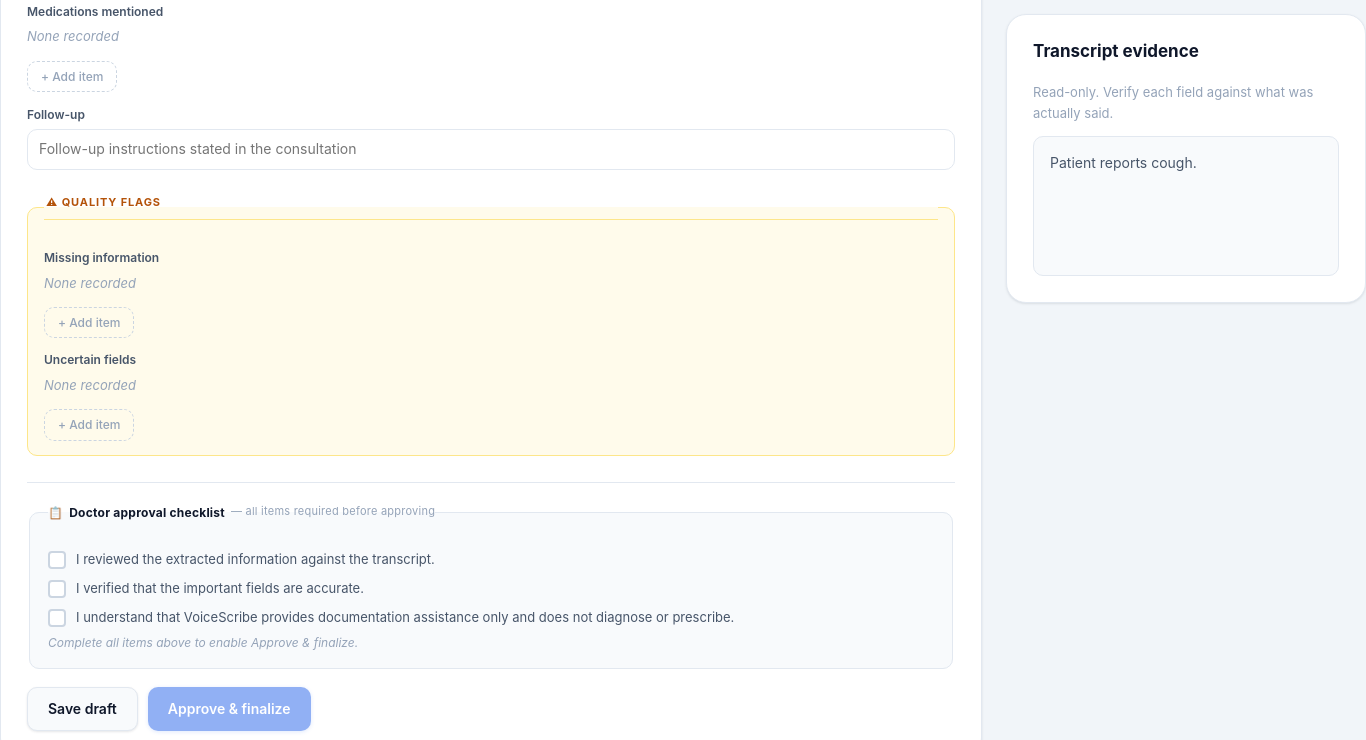
Test: 4. missing patientId prevents save › approve shows validation error when patientId is null
This screenshot has width=1366, height=740.
(page scrolled)
Click the checkbox labelled "I reviewed the extracted information against the transcript.": (241,559) [48,550,435,569]
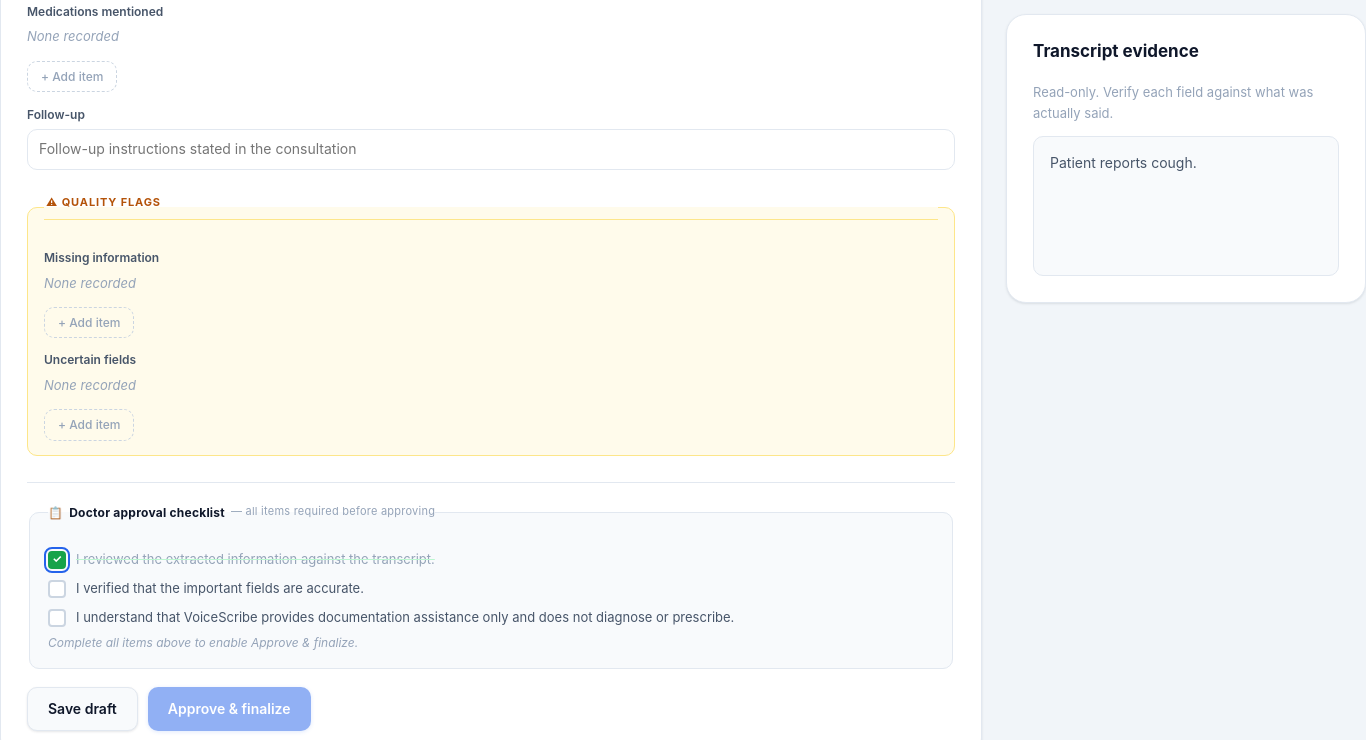
Click the checkbox labelled "I verified that the important fields are accurate.": (206,588) [48,579,364,598]
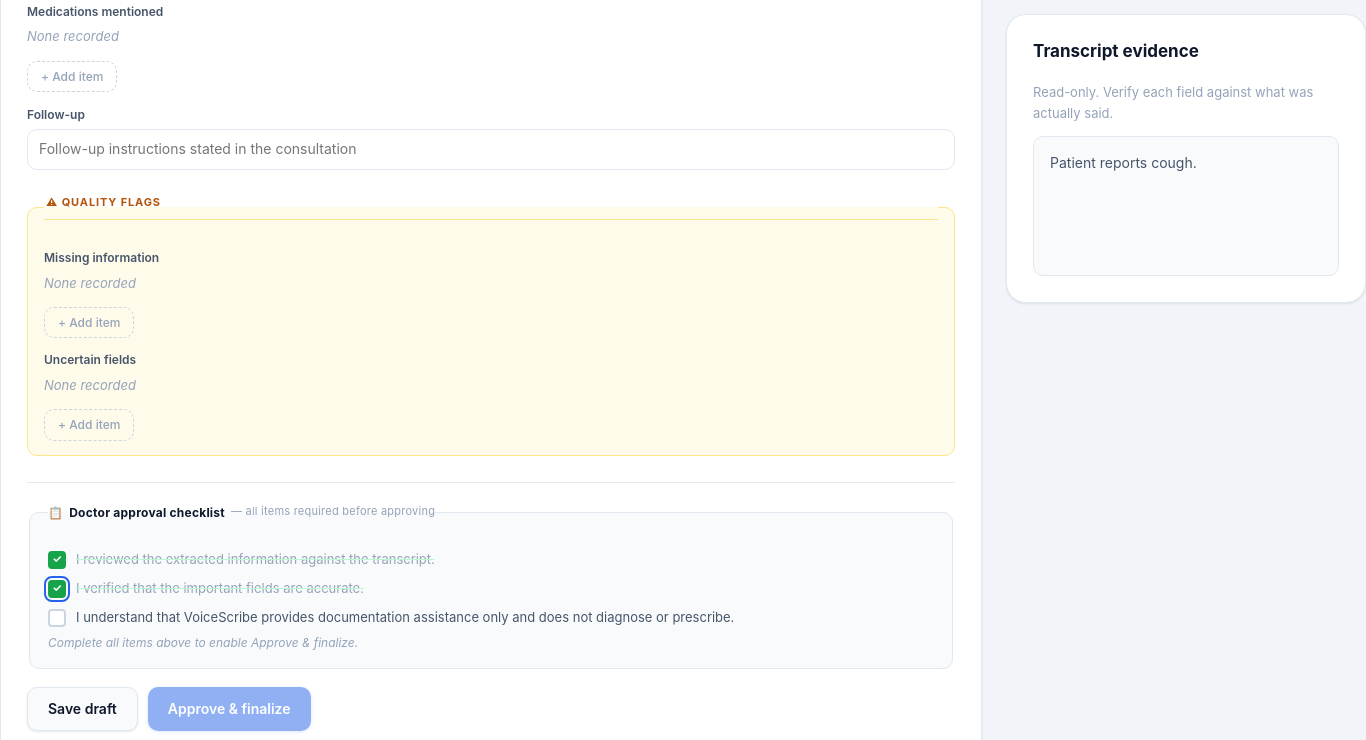
Click the checkbox named "I understand that VoiceScribe provides documentation assista": (391,617) [48,608,734,627]
(page scrolled)
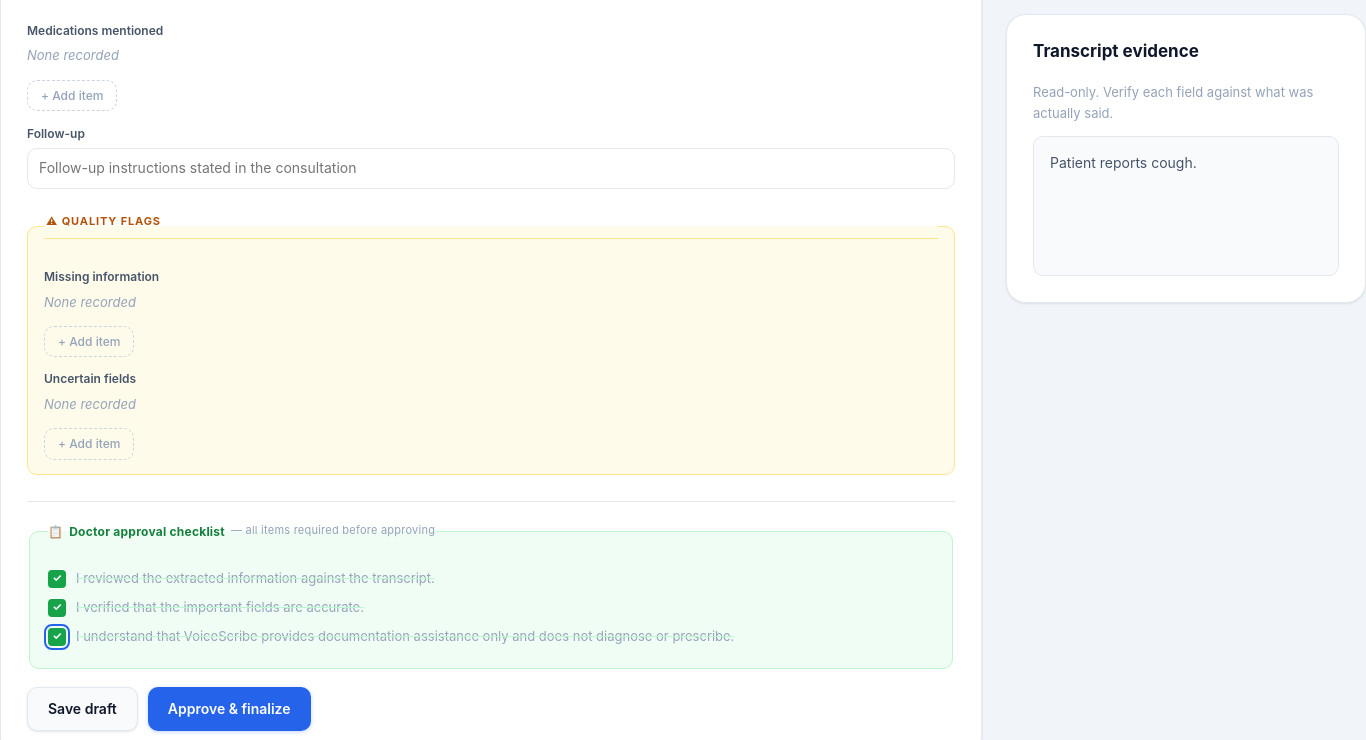
Click the button "Approve & finalize": (229,709) [148,687,311,731]
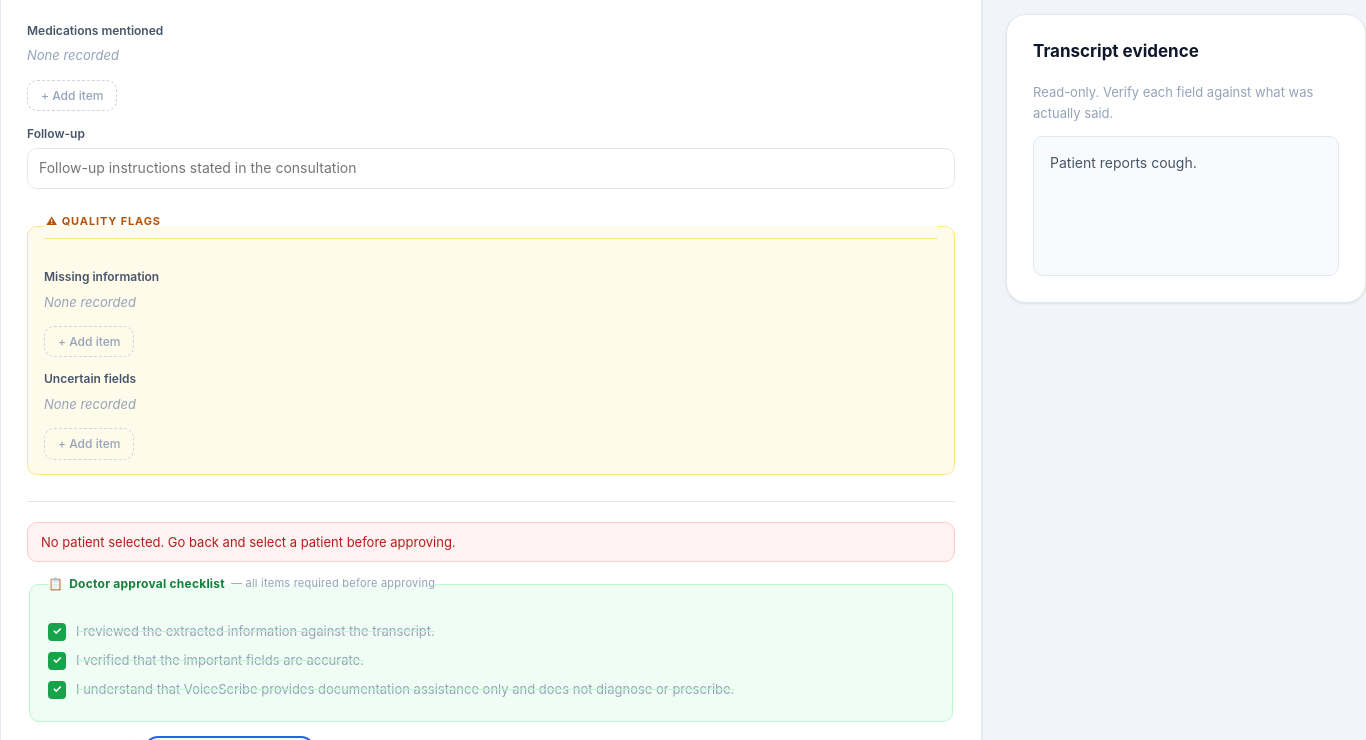
Now the message "No patient selected. Go back and select a patient before approving." is shown, box [27,522,955,562]
Now the message shows "No patient selected", box [41,534,456,550]
